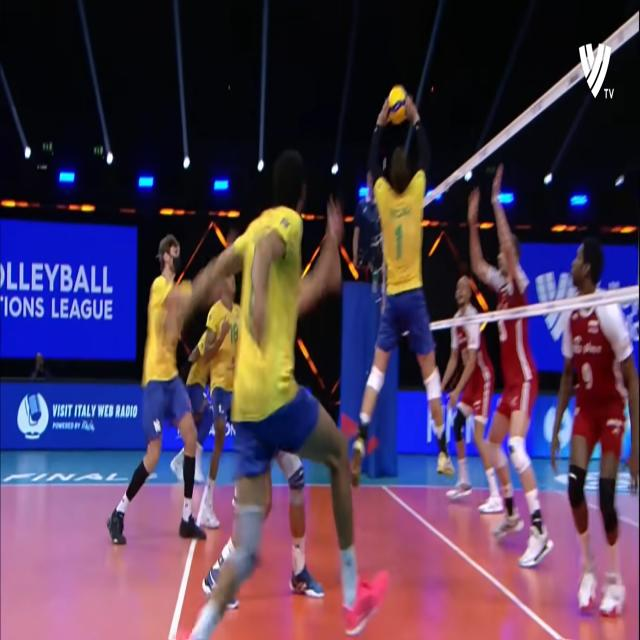player: (162, 144, 394, 640), (350, 110, 454, 481), (464, 168, 553, 570), (548, 237, 640, 615), (106, 229, 212, 542), (440, 274, 502, 515), (204, 254, 248, 532)
